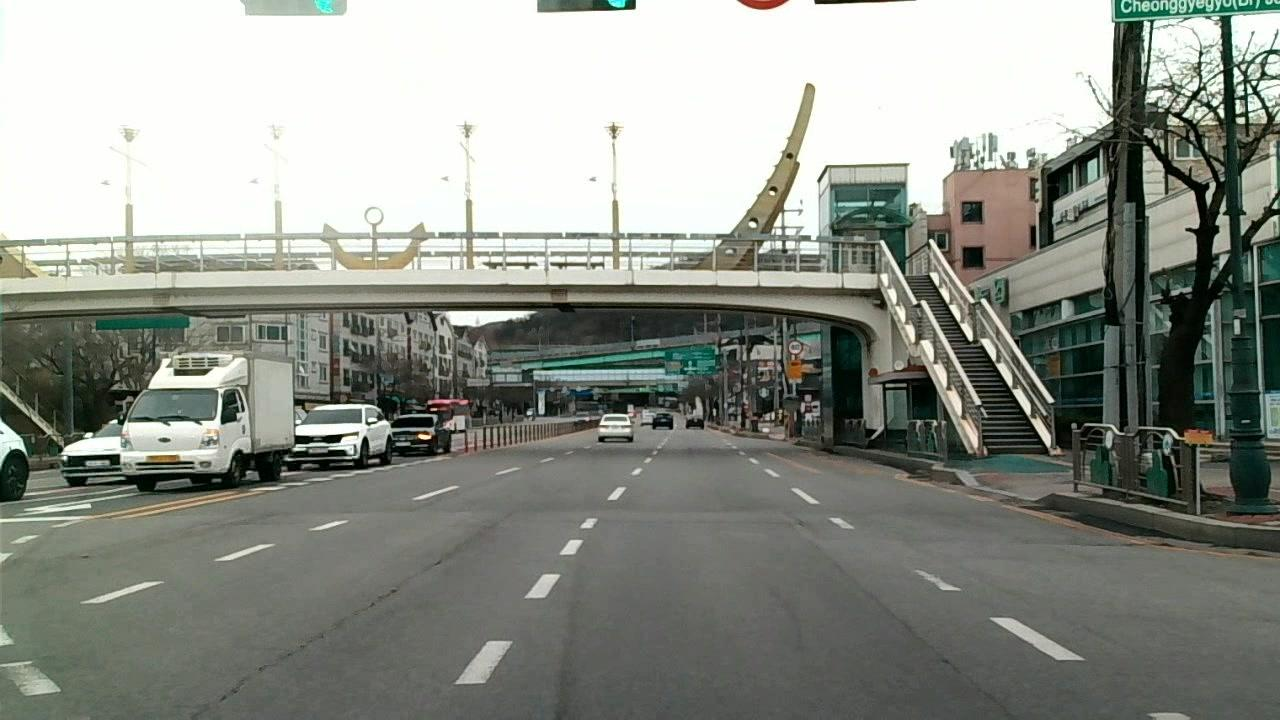vcrack: (190, 629, 341, 720), (342, 540, 459, 625), (907, 632, 1014, 710), (832, 553, 902, 623)
